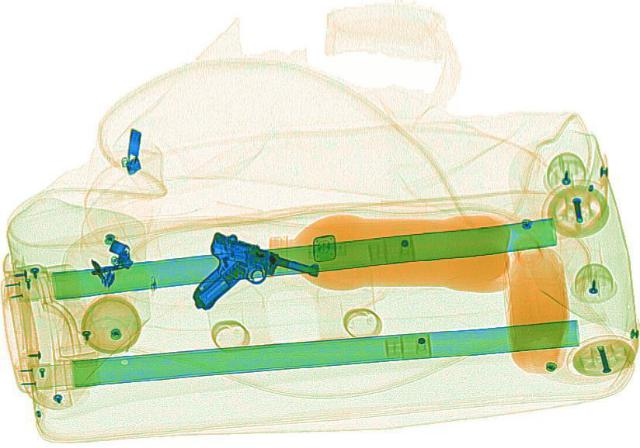Gun: (178, 231, 328, 325)
